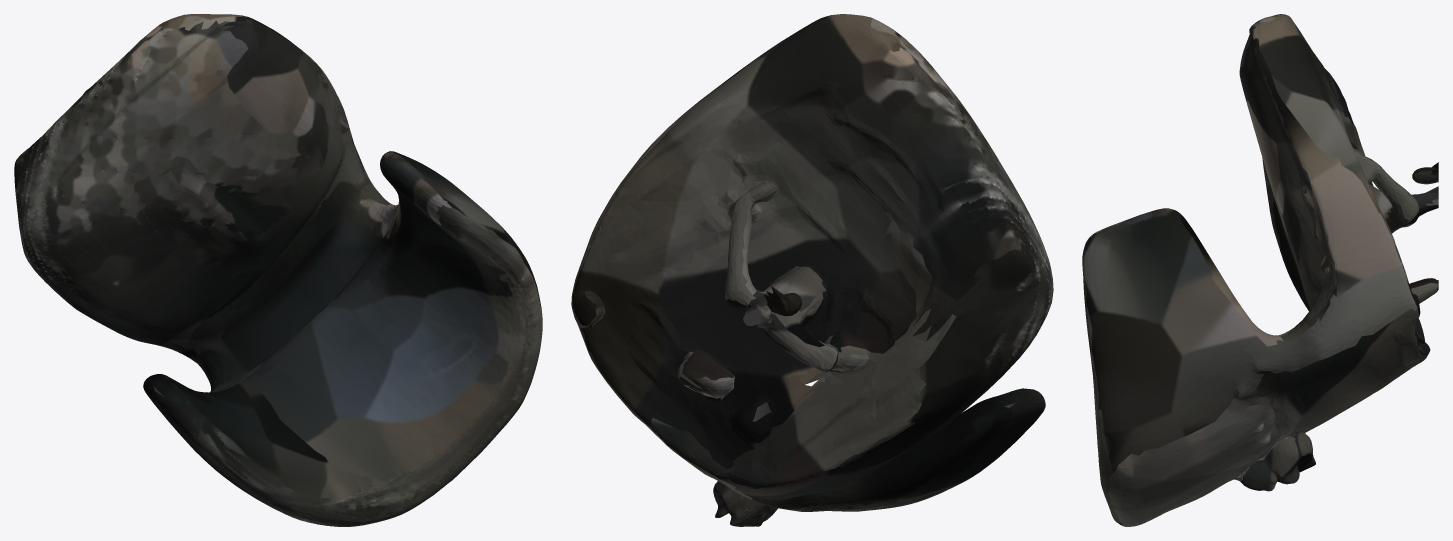
The model's file is chair_0_seat.glb.
The picture shows the model from 3 angles, left to right: view 1: azimuth 30°, elevation 25°; view 2: azimuth 150°, elevation 25°; view 3: azimuth 270°, elevation 25°; orthographic projection. The views are drawn at different scales.
Visible parts, largest first — view 1: chair_0_seat.obj; view 2: chair_0_seat.obj; view 3: chair_0_seat.obj.
Part boxes in pixels (left/top/right/bottom): chair_0_seat.obj: left=14, top=14, right=542, bottom=526; chair_0_seat.obj: left=571, top=14, right=1053, bottom=526; chair_0_seat.obj: left=1082, top=14, right=1438, bottom=526.
Bounding box in the file's own units: 0.9212 × 0.9896 × 0.7123.
Materials: 1 (1 with a texture image).
